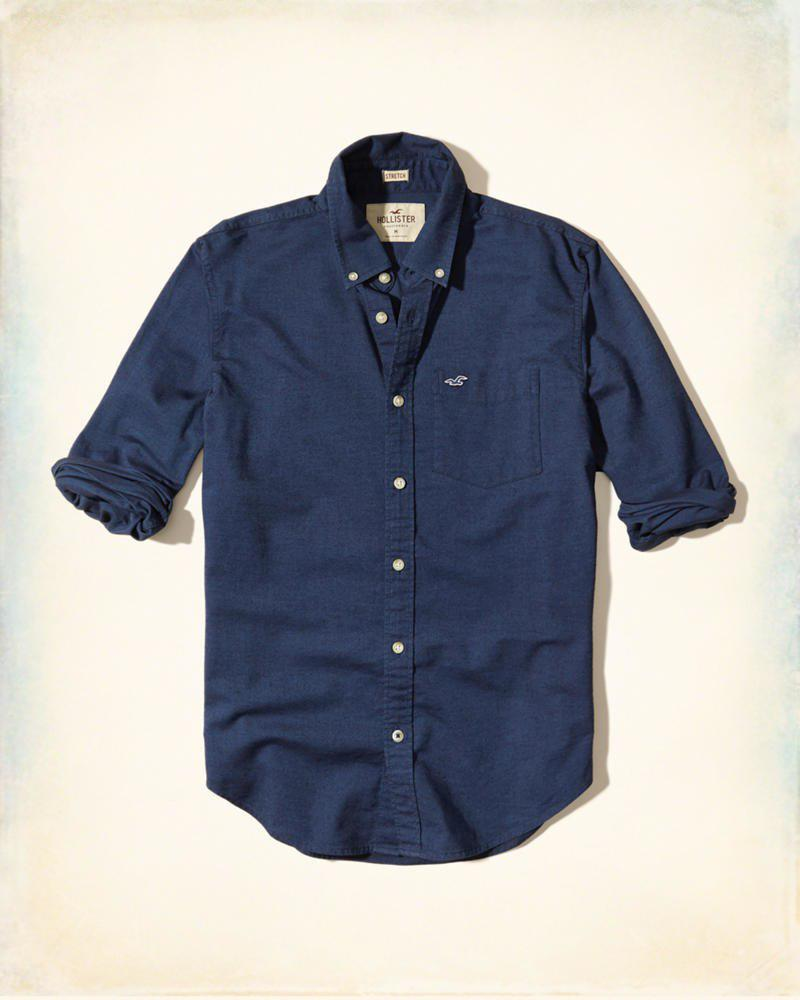teeshirt: (41, 127, 752, 868)
